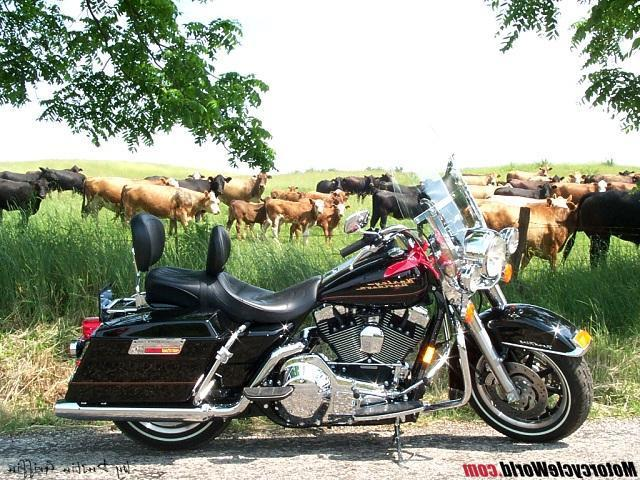motorcycle: (48, 164, 594, 461)
